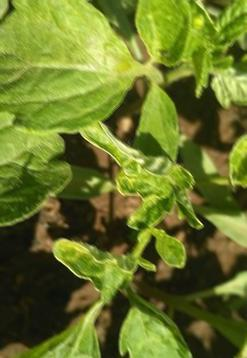Tomato leaf mosaic virus: (0, 2, 136, 133), (79, 122, 202, 231), (39, 232, 157, 290), (117, 85, 188, 179), (116, 284, 189, 358), (129, 0, 193, 69), (202, 0, 247, 50), (210, 59, 247, 110), (219, 128, 247, 189)
